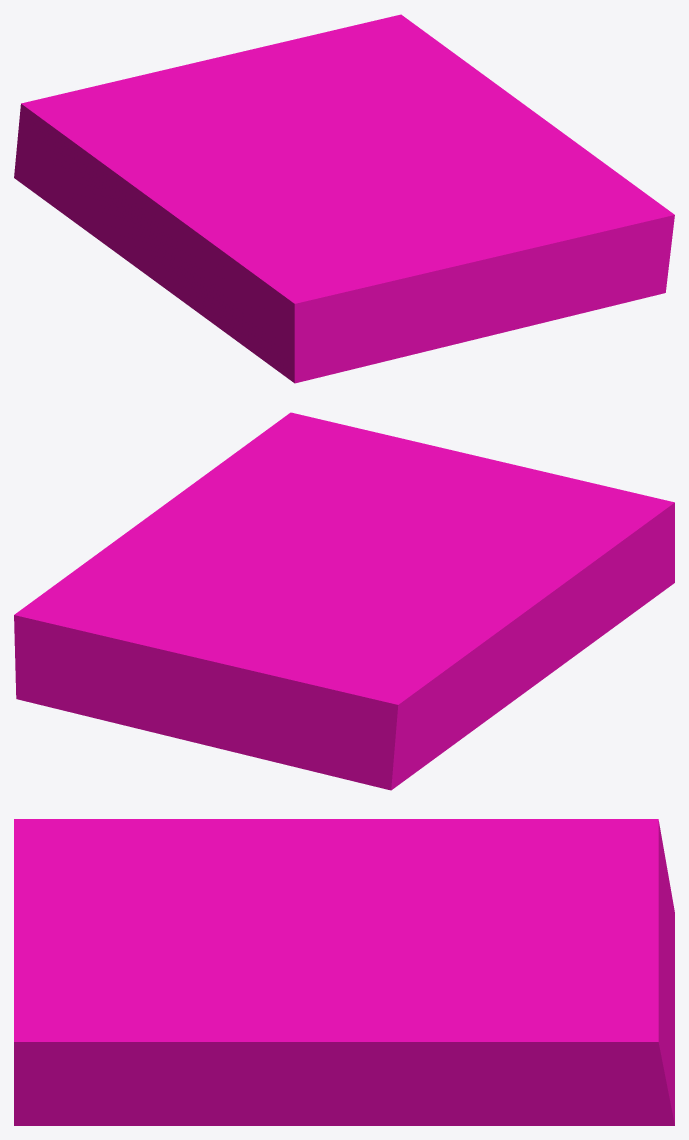
Rendered from study_paperpile_4_meshCollider.fbx.
3 renders of one model, top to bottom at view 1: azimuth 30°, elevation 25°; view 2: azimuth 150°, elevation 25°; view 3: azimuth 270°, elevation 25°, orthographic. The views are drawn at different scales.
Visible parts, largest first — view 1: study_paperpile_4_meshCollider; view 2: study_paperpile_4_meshCollider; view 3: study_paperpile_4_meshCollider.
Part boxes in pixels (x1=…): study_paperpile_4_meshCollider: x1=14, y1=14, x2=674, y2=383; study_paperpile_4_meshCollider: x1=14, y1=412, x2=674, y2=790; study_paperpile_4_meshCollider: x1=14, y1=819, x2=674, y2=1125.
Bounding box in the file's own units: 19.59 × 3.92 × 25.05.
